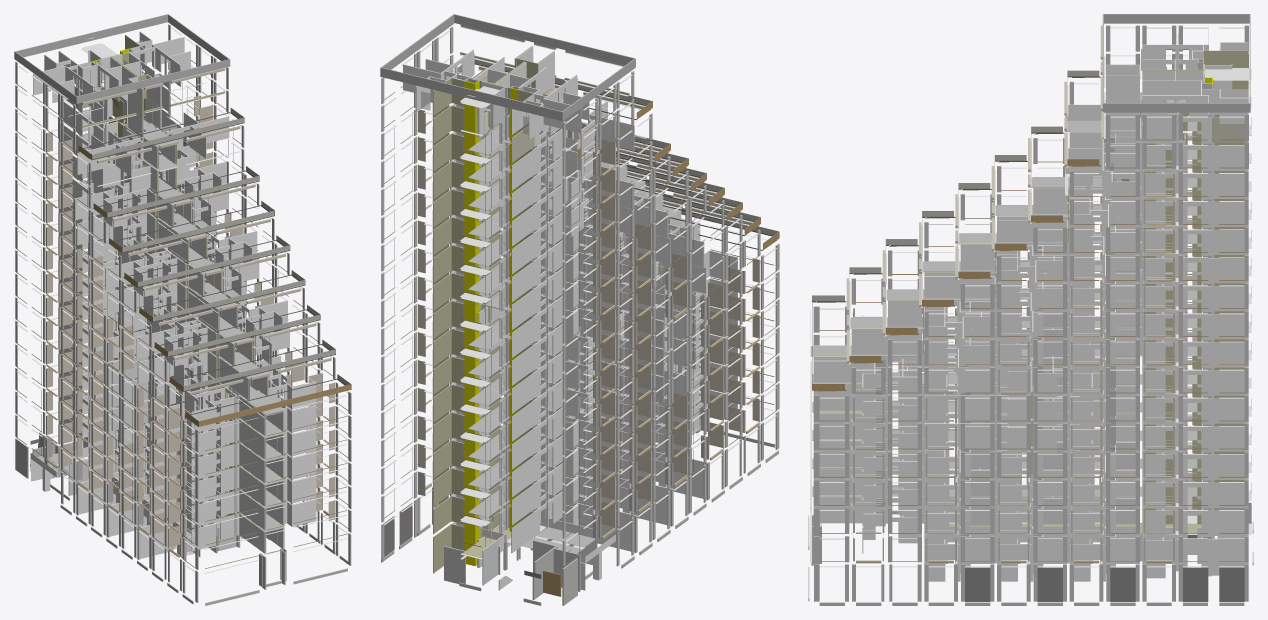
Rendered from sixty5-architectural-structure-final.glb.
3 renders of one model, left to right at view 1: azimuth 30°, elevation 25°; view 2: azimuth 150°, elevation 25°; view 3: azimuth 270°, elevation 25°, orthographic. The views are drawn at different scales.
Visible parts, largest first — view 1: IfcWall/21_DD_gasbeton borstwering.002, IfcWall/41_DD_afwerking borstwering dakterras, IfcWall/41_DD_afwerking borstwering dakterras.006, IfcWall/41_DD_afwerking borstwering dakterras.022, IfcWall/41_DD_afwerking borstwering dakterras.007, IfcWall/41_DD_afwerking borstwering dakterras.018, IfcWall/41_DD_afwerking borstwering dakterras.021, IfcWall/41_DD_afwerking borstwering dakterras.010, IfcWall/41_DD_afwerking borstwering dakterras.015, IfcWall/22_Wall_DD-ytong G4/600 .004, IfcWall/22_Wall_DD_Gyproc GF 205/2.75 75.2 AA.112, IfcWall/22_Wall_DD-ytong G4/600 .003 (+36 smaller); view 2: IfcWall/21_DD_gasbeton borstwering.002, IfcWall/21_DD_gasbeton borstwering.005, IfcWall/21_DD_gasbeton borstwering, IfcWall/22_Wall_DD-ytong G4/600 .003, IfcWall/22_Wall_DD-ytong G4/600 .002, IfcWall/21_DD_gasbeton borstwering.001, IfcWall/22_Wall_DD-ytong G4/600 .004, IfcWall/21_DD_gasbeton borstwering.003, IfcWall/22-Wall_DD-mst voorzetwand gang.040, IfcWallStandardCase/22_Wall_DD-kalkzandsteen, IfcWall/22_Wall_DD-ytong G5/800 .1906, IfcWall/22_Wall_DD-ytong G5/800 .2024 (+30 smaller); view 3: IfcWall/22_Wall_DD_Gyproc GF 205/2.75 75.2 AA.202, IfcWall/22_Wall_DD_Gyproc GF 205/2.75 75.2 AA.143, IfcWall/22_Wall_DD_Gyproc GF 205/2.75 75.2 AA.176, IfcWall/21_DD_gasbeton borstwering.003, IfcWall/21_DD_gasbeton borstwering.001, IfcWall/22_Wall_DD_Gyproc GF 205/2.75 75.2 AA.119, IfcWall/22-Wall_DD-mst voorzetwand.004, IfcWall/22_Wall_DD_Gyproc GF 205/2.75 75.2 AA.075, IfcWall/22_Wall_DD_Gyproc GF 205/2.75 75.2 AA.241, IfcWall/22_Wall_DD_Gyproc GF 205/2.75 75.2 AA.030, IfcWall/22_Wall_DD_Gyproc GF 205/2.75 75.2 AA.071, IfcWall/22_Wall_DD_Gyproc GF 205/2.75 75.2 AA.050 (+67 smaller).
Part boxes in pixels (<box>): IfcWall/21_DD_gasbeton borstwering.002: <box>76,59,229,103</box>; IfcWall/41_DD_afwerking borstwering dakterras: <box>199,384,351,426</box>; IfcWall/41_DD_afwerking borstwering dakterras.006: <box>183,349,335,390</box>; IfcWall/41_DD_afwerking borstwering dakterras.022: <box>92,117,244,159</box>; IfcWall/41_DD_afwerking borstwering dakterras.007: <box>168,314,320,356</box>; IfcWall/41_DD_afwerking borstwering dakterras.018: <box>122,210,274,251</box>; IfcWall/41_DD_afwerking borstwering dakterras.021: <box>107,176,259,217</box>; IfcWall/41_DD_afwerking borstwering dakterras.010: <box>153,280,304,321</box>; IfcWall/41_DD_afwerking borstwering dakterras.015: <box>138,245,289,286</box>; IfcWall/22_Wall_DD-ytong G4/600 .004: <box>139,520,172,558</box>; IfcWall/22_Wall_DD_Gyproc GF 205/2.75 75.2 AA.112: <box>239,418,266,459</box>; IfcWall/22_Wall_DD-ytong G4/600 .003: <box>109,498,142,536</box>; IfcWall/21_DD_gasbeton borstwering.002: <box>454,14,635,66</box>; IfcWall/21_DD_gasbeton borstwering.005: <box>381,67,467,97</box>; IfcWall/21_DD_gasbeton borstwering: <box>475,90,561,120</box>; IfcWall/22_Wall_DD-ytong G4/600 .003: <box>632,484,671,525</box>; IfcWall/22_Wall_DD-ytong G4/600 .002: <box>596,510,635,552</box>; IfcWall/21_DD_gasbeton borstwering.001: <box>561,58,635,121</box>; IfcWall/22_Wall_DD-ytong G4/600 .004: <box>668,457,707,499</box>; IfcWall/21_DD_gasbeton borstwering.003: <box>380,14,454,76</box>; IfcWall/22-Wall_DD-mst voorzetwand gang.040: <box>540,516,597,564</box>; IfcWallStandardCase/22_Wall_DD-kalkzandsteen: <box>444,546,465,583</box>; IfcWall/22_Wall_DD-ytong G5/800 .1906: <box>598,116,634,150</box>; IfcWall/22_Wall_DD-ytong G5/800 .2024: <box>543,98,581,133</box>; IfcWall/22_Wall_DD_Gyproc GF 205/2.75 75.2 AA.202: <box>997,215,1067,242</box>; IfcWall/22_Wall_DD_Gyproc GF 205/2.75 75.2 AA.143: <box>851,328,921,354</box>; IfcWall/22_Wall_DD_Gyproc GF 205/2.75 75.2 AA.176: <box>924,272,994,298</box>; IfcWall/21_DD_gasbeton borstwering.003: <box>1102,103,1250,112</box>; IfcWall/21_DD_gasbeton borstwering.001: <box>1104,14,1250,23</box>; IfcWall/22_Wall_DD_Gyproc GF 205/2.75 75.2 AA.119: <box>813,356,874,382</box>; IfcWall/22-Wall_DD-mst voorzetwand.004: <box>1212,538,1248,575</box>; IfcWall/22_Wall_DD_Gyproc GF 205/2.75 75.2 AA.075: <box>813,412,874,438</box>; IfcWall/22_Wall_DD_Gyproc GF 205/2.75 75.2 AA.241: <box>1106,75,1139,102</box>; IfcWall/22_Wall_DD_Gyproc GF 205/2.75 75.2 AA.030: <box>813,496,874,523</box>; IfcWall/22_Wall_DD_Gyproc GF 205/2.75 75.2 AA.071: <box>813,440,874,466</box>; IfcWall/22_Wall_DD_Gyproc GF 205/2.75 75.2 AA.050: <box>813,468,874,494</box>.
Size of the model in its own units: 22.46 by 58.05 by 45.98.
